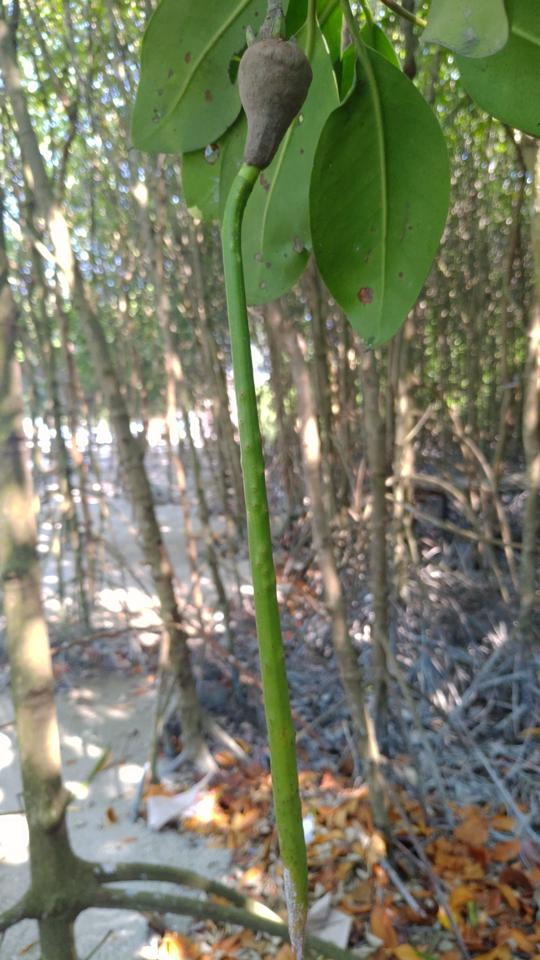setengah matang: (214, 34, 352, 958)
